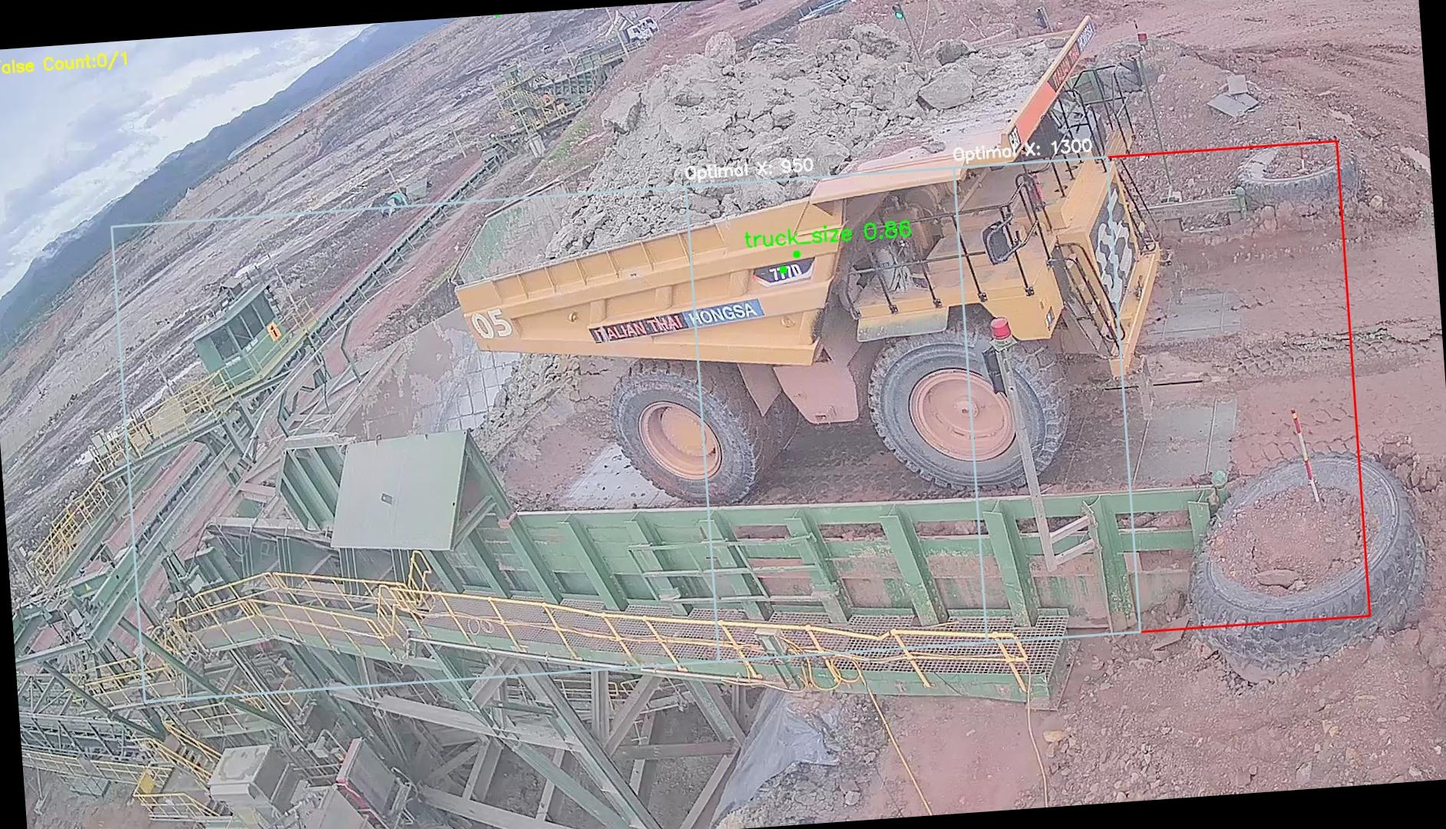company: (578, 292, 775, 349)
full_load: (582, 20, 895, 234)
mining_truck: (430, 0, 1203, 525)
tail_number: (460, 302, 519, 349)
truck_size: (749, 253, 820, 291)
